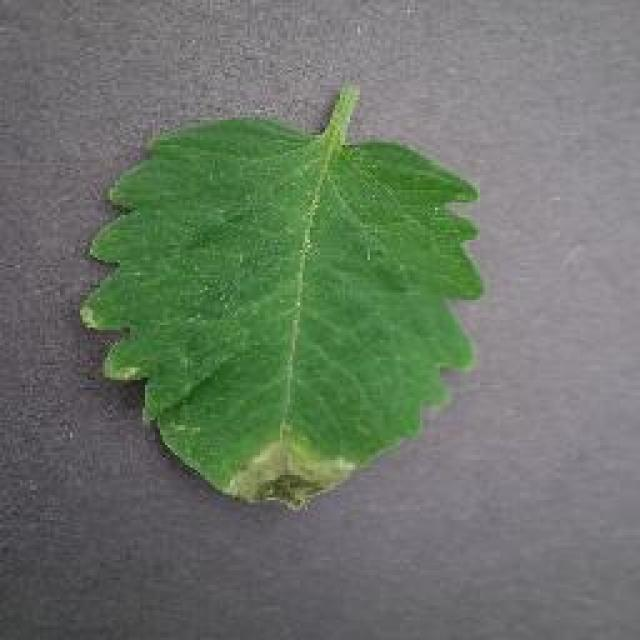Tomato late blight leaf: (85, 85, 483, 503)
